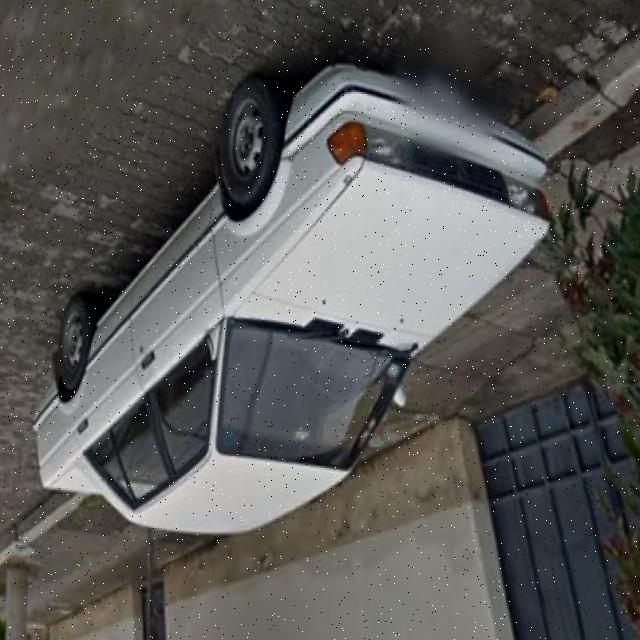car: (25, 84, 561, 558)
